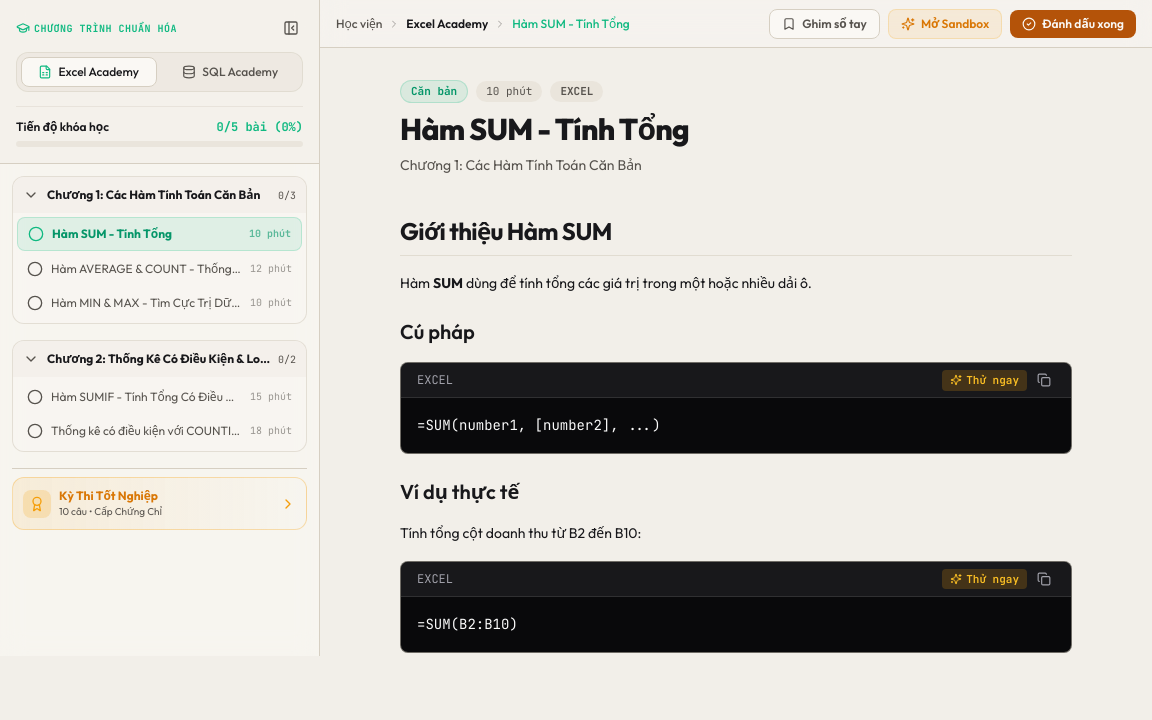
Test: AcademyCoursePage Tests (Sprint 9.5 — Step 9.5.2) › 2. Chuyển đổi giữa khóa học Excel Academy và SQL Academy
Expected: the text "SQL Academy" is shown, x1=202 y1=64 x2=278 y2=80
Note: Click tab SQL Academy
Click the button "SQL Academy" at (230, 72), box x1=162 y1=57 x2=298 y2=87
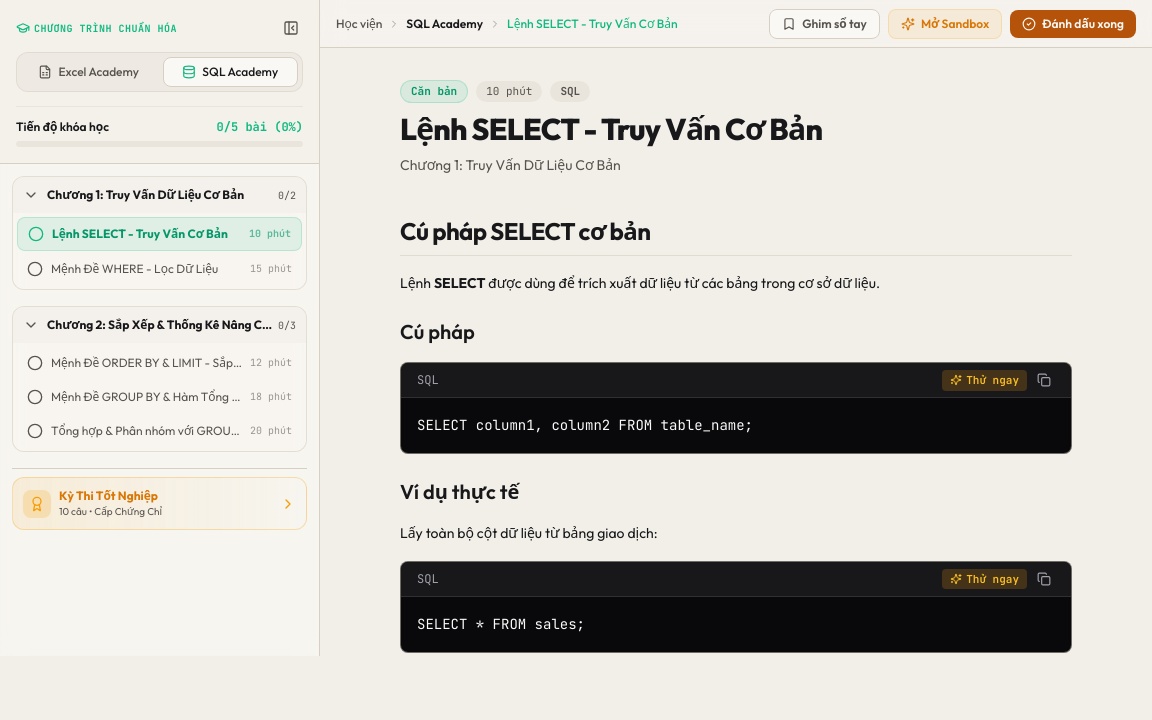
Now the heading "Lệnh SELECT - Truy Vấn Cơ Bản" is shown, box x1=400 y1=110 x2=822 y2=148
